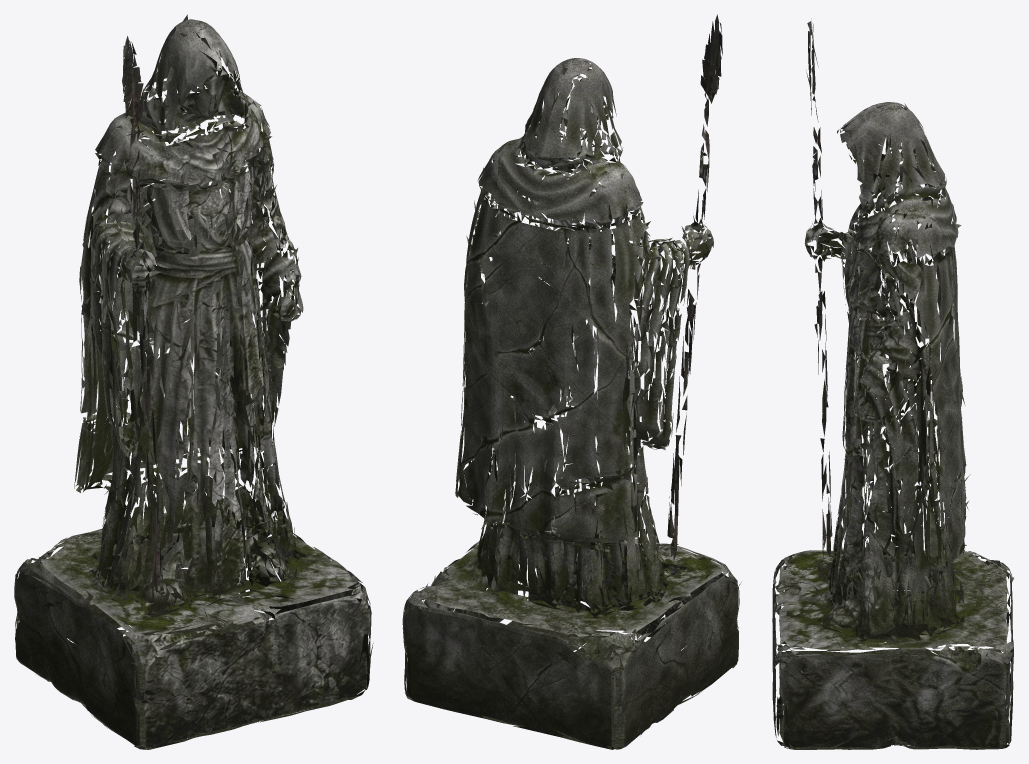
Rendered from guardian.glb.
3 views of the same model, side by side, from view 1: azimuth 30°, elevation 25°; view 2: azimuth 150°, elevation 25°; view 3: azimuth 270°, elevation 25° (orthographic). The views are drawn at different scales.
Parts seen in each view (by area): view 1: lo; view 2: lo; view 3: lo.
Boxes of the visible parts, x1,y1,x2,y2 form: lo: (14, 14, 373, 749); lo: (402, 14, 741, 749); lo: (772, 21, 1013, 749).
Size of the model in its own units: 0.3499 by 0.9865 by 0.3376.
Materials: 1 (1 with a texture image).
